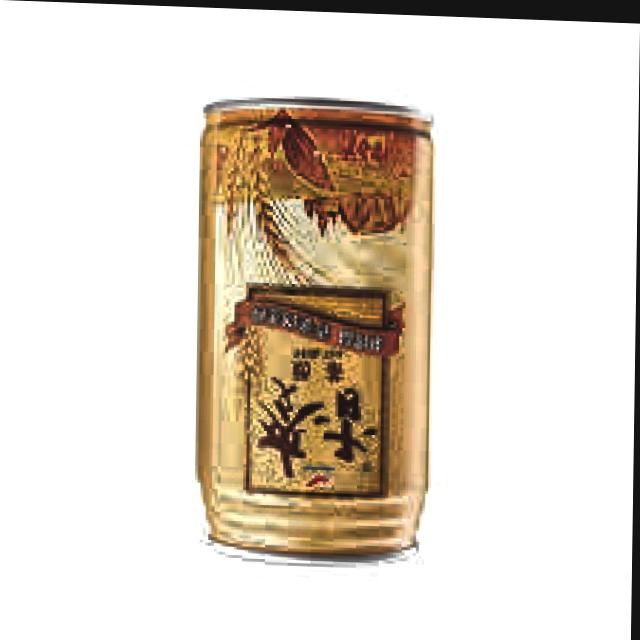can: (187, 84, 447, 571)
